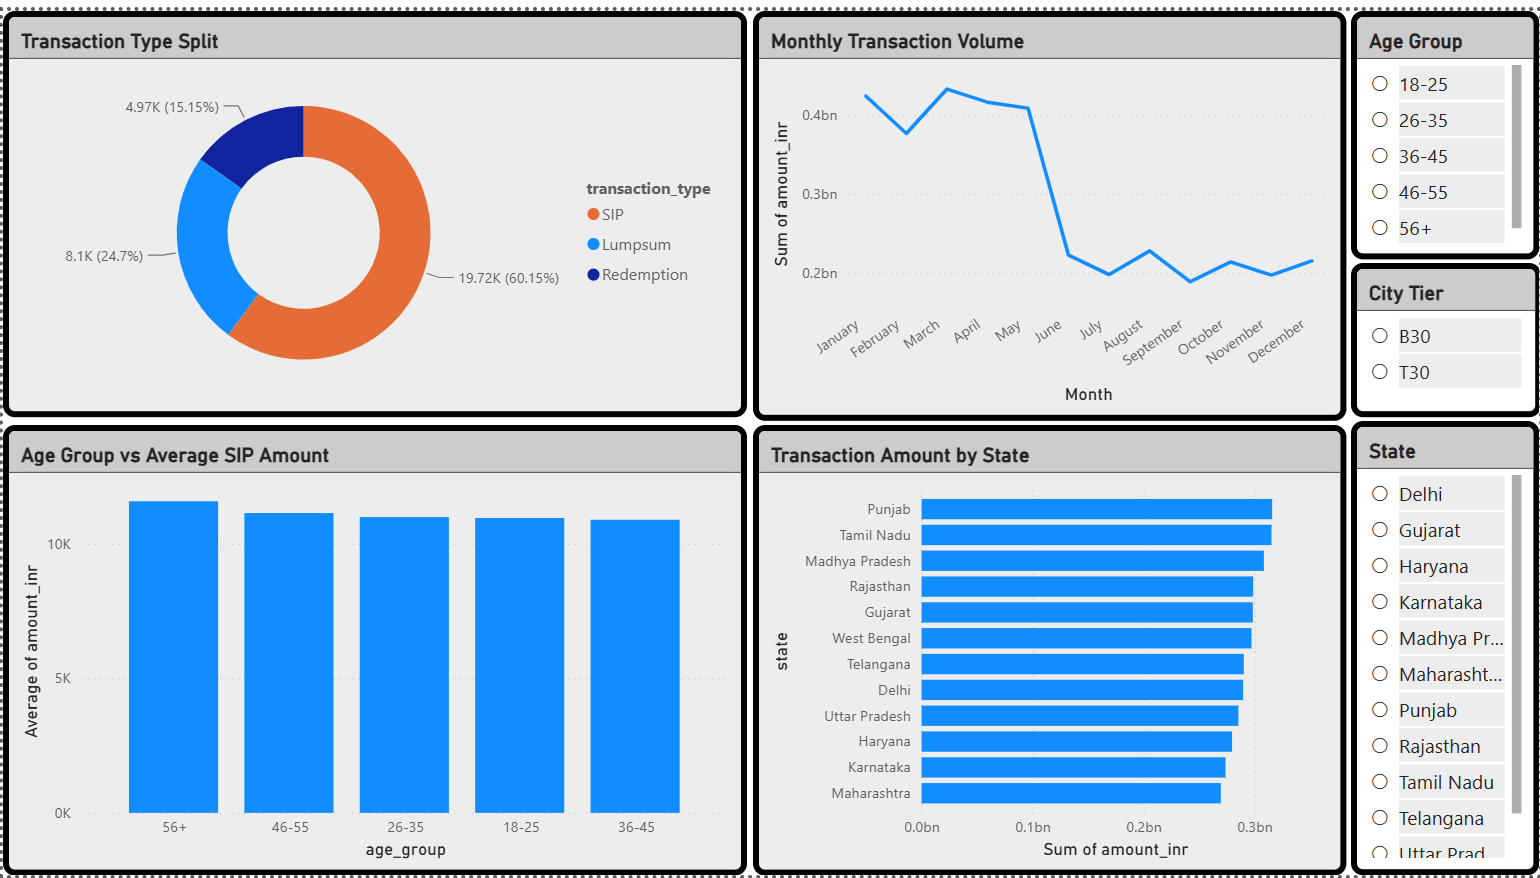

This screenshot's page, from the dashboard's own definition file:
{"tool":"powerbi","page":{"name":"Investor Analytics","canvas":[1280,720],"ordinal":2},"visuals":[{"type":"clusteredBarChart","title":"Transaction Amount by State","fields":{"Category":["clean_investor_transactions.state"],"Y":["Sum(clean_investor_transactions.amount_inr)"]},"box":[624.3,344.3,494.3,375.7],"z":0},{"type":"donutChart","title":"Transaction Type Split","fields":{"Category":["clean_investor_transactions.transaction_type"],"Y":["CountNonNull(clean_investor_transactions.transaction_type)"]},"box":[0,0,620,338.6],"z":1000},{"type":"clusteredColumnChart","title":"Age Group vs Average SIP Amount","fields":{"Category":["clean_investor_transactions.age_group"],"Y":["Avg(clean_investor_transactions.amount_inr)"]},"box":[0,344.3,620,375.7],"z":2000},{"type":"lineChart","title":"Monthly Transaction Volume","fields":{"Category":["clean_investor_transactions.transaction_date.Variation.Date Hierarchy.Month"],"Y":["Sum(clean_investor_transactions.amount_inr)"]},"box":[624.3,0,494.3,341.4],"z":3000},{"type":"listSlicer","title":"City Tier","fields":{"Values":["clean_investor_transactions.city_tier"]},"box":[1122.9,210,158.6,128.6],"z":4000},{"type":"listSlicer","title":"State","fields":{"Values":["clean_investor_transactions.state"]},"box":[1122.9,341.4,157.1,378.6],"z":5000},{"type":"listSlicer","title":"Age Group","fields":{"Values":["clean_investor_transactions.age_group"]},"box":[1122.9,0,157.1,207.1],"z":6000}]}

Visuals, with their boxes in screenshot pixels (x1, y1, x2, y2), scaled from the page's 1280x720 canvas onto the 1540x878 screenshot:
"Transaction Amount by State" clusteredBarChart: bbox(751, 420, 1346, 877)
"Transaction Type Split" donutChart: bbox(0, 0, 746, 413)
"Age Group vs Average SIP Amount" clusteredColumnChart: bbox(0, 420, 746, 877)
"Monthly Transaction Volume" lineChart: bbox(751, 0, 1346, 416)
"City Tier" listSlicer: bbox(1351, 256, 1539, 413)
"State" listSlicer: bbox(1351, 416, 1539, 877)
"Age Group" listSlicer: bbox(1351, 0, 1539, 253)
